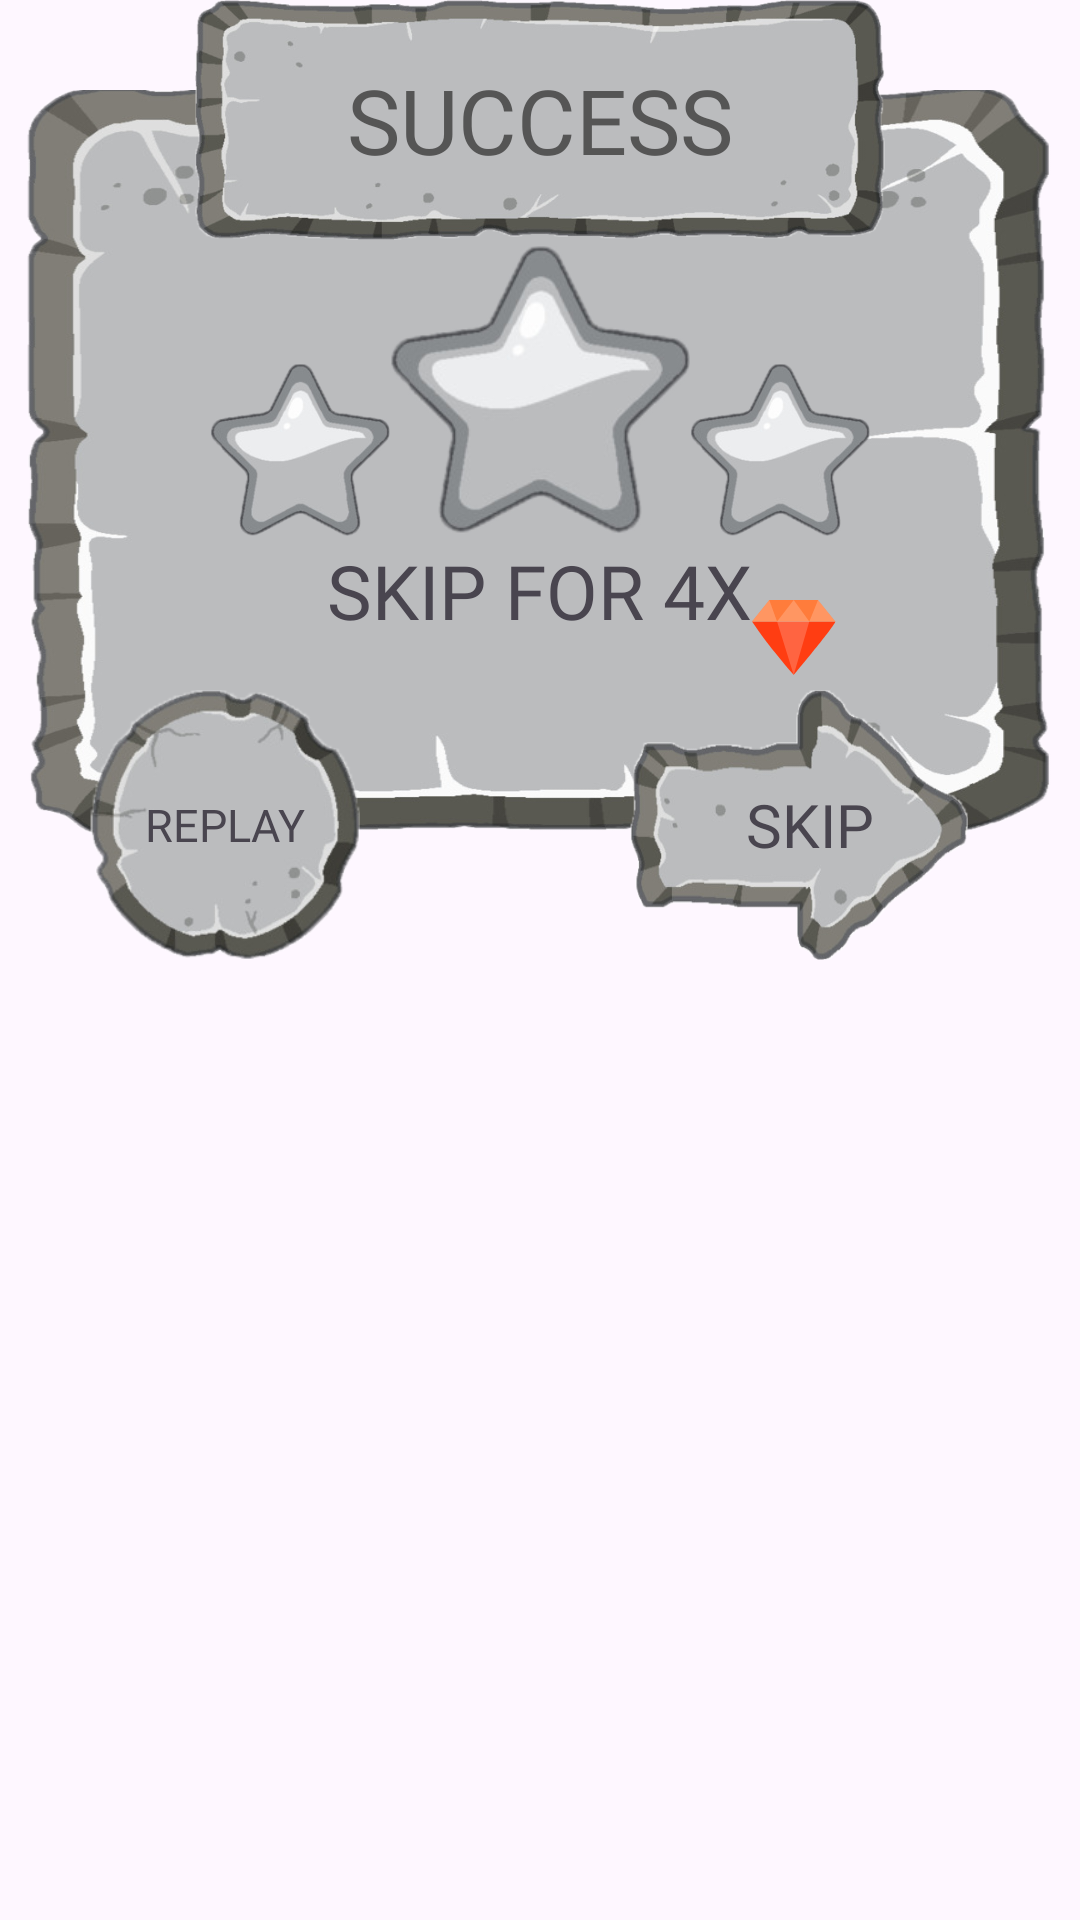

Where to tap for icons on this 1080 x 1920 app screen, as (x,y):
dimond: (794,637)
levelstarfailed: (540,390), (300,450), (780,450)
